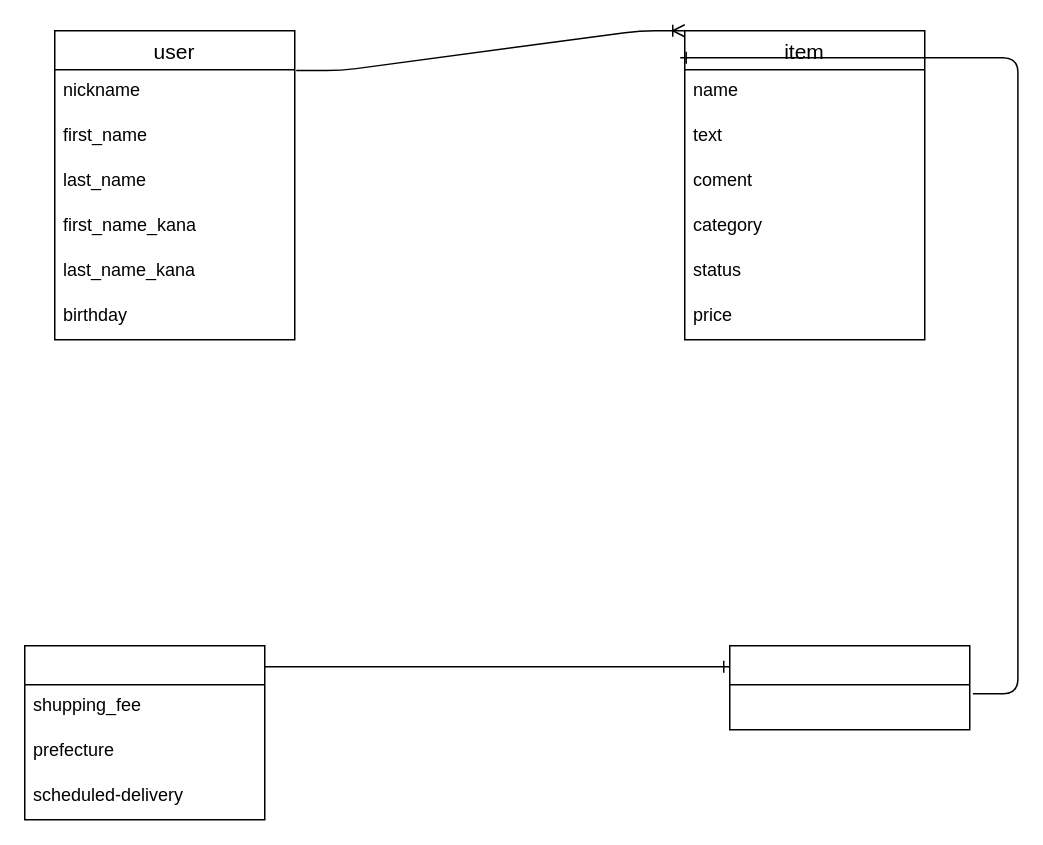
Image size: 1043x845. Some labels were removed from this diagram. Here are the shapes that lost their labels. From the top down, the box of each, then its label:
(728, 644, 970, 730): parchse
(23, 644, 265, 820): address
